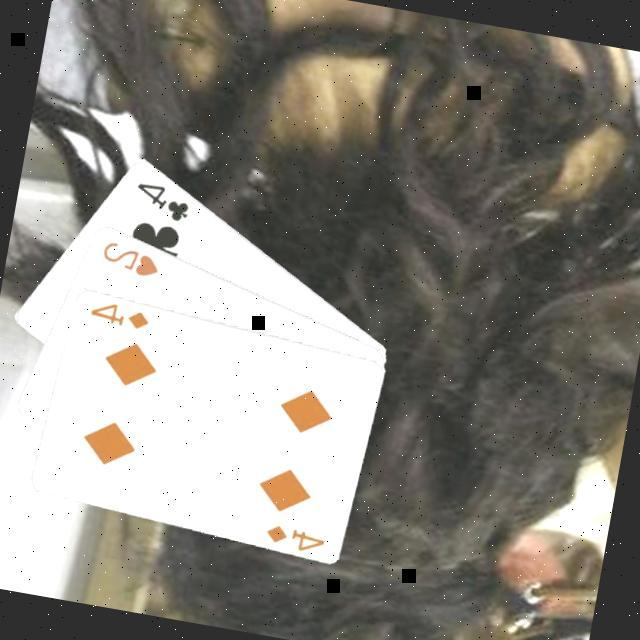2H: (94, 237, 163, 284)
4C: (127, 178, 195, 228)
4D: (83, 296, 152, 335), (258, 520, 328, 557)
